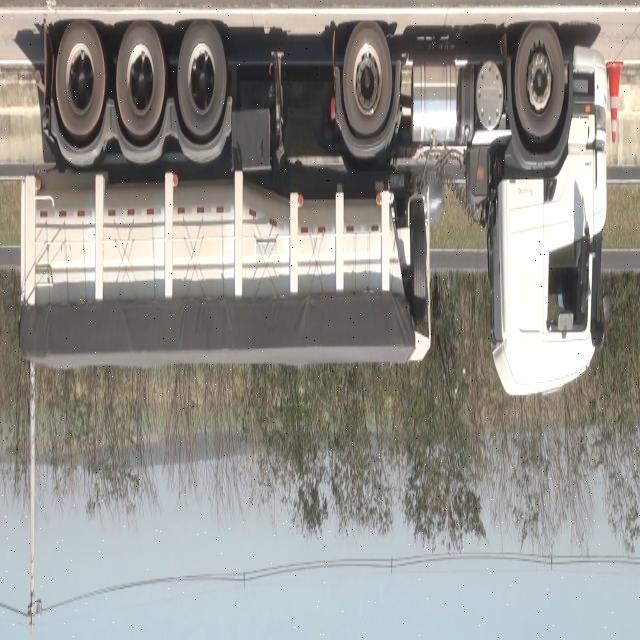-axle: (341, 23, 396, 140), (177, 23, 228, 137), (56, 22, 106, 136), (516, 25, 564, 138), (116, 26, 166, 134)
